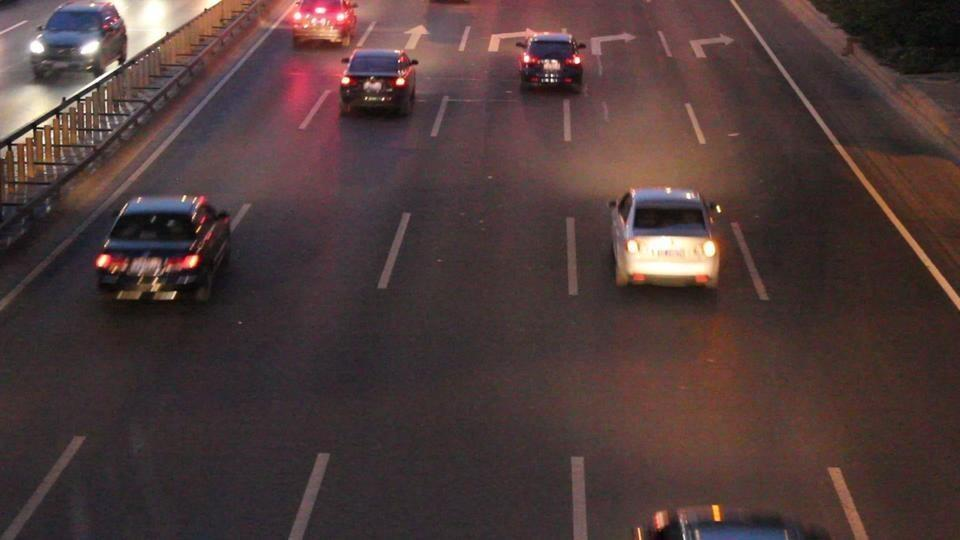car: (93, 193, 235, 305), (607, 187, 723, 292), (28, 0, 128, 82), (337, 48, 421, 115), (519, 33, 587, 95), (289, 0, 357, 48), (0, 204, 34, 254)
